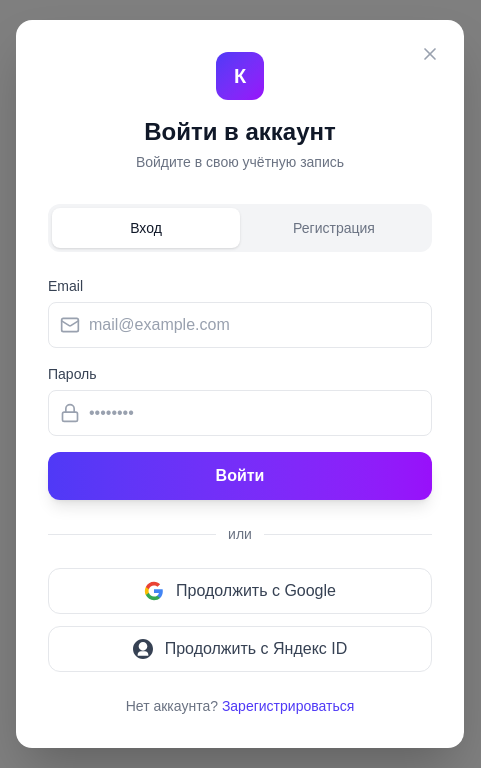
Test case: AuthModal › switches mode via link
The width and height of the screenshot is (481, 768).
Click the button "Регистрация" at (334, 228), box [240,208,428,248]
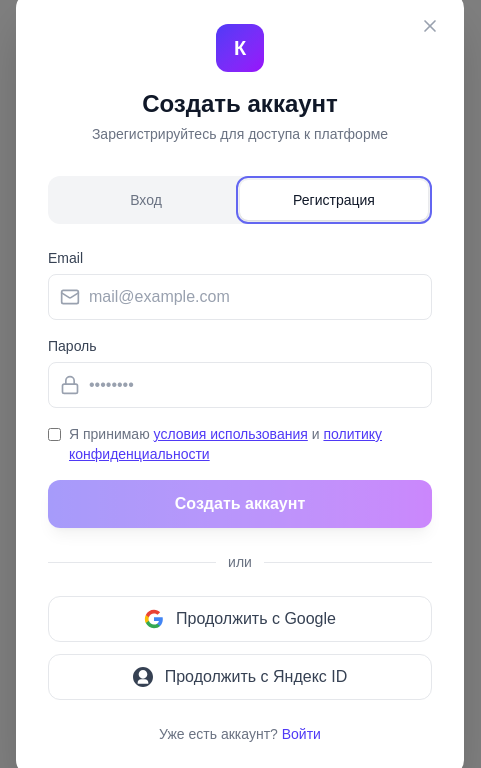
Click the button "Войти" at (301, 734), box [282,724,321,744]
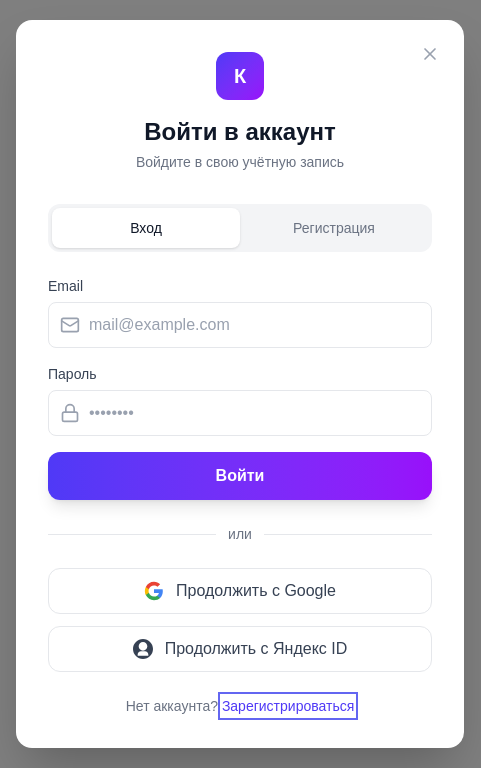
Expected: the heading "Войти в аккаунт" is shown, [144,118,336,145]
